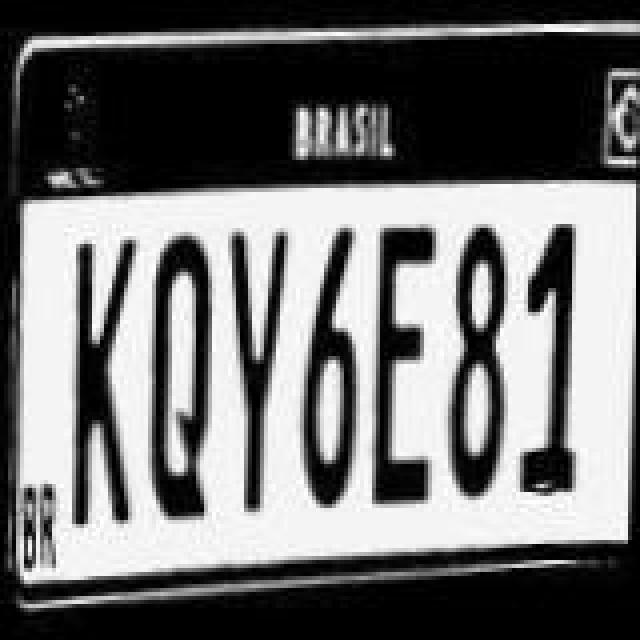1: (516, 218, 588, 502)
6: (298, 226, 366, 506)
8: (448, 216, 512, 496)
E: (368, 222, 440, 506)
K: (60, 230, 140, 514)
Q: (146, 234, 218, 526)
Y: (226, 230, 294, 518)
